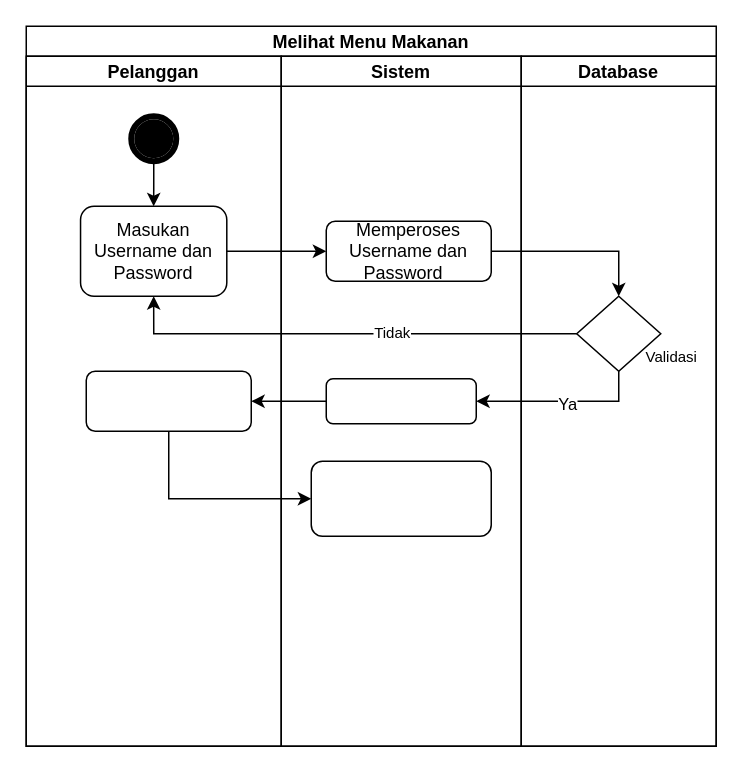
Image size: 743x773. Some labels were removed from this diagram. Here are the shapes that lost their labels. From the top down, the centre of each, then its label:
the point at 168,400: Masuk ke Menu Makanan
the point at 400,400: Menampilkan Beranda
the point at 400,498: Menampilkan Form Pencarian Menu Makanan
